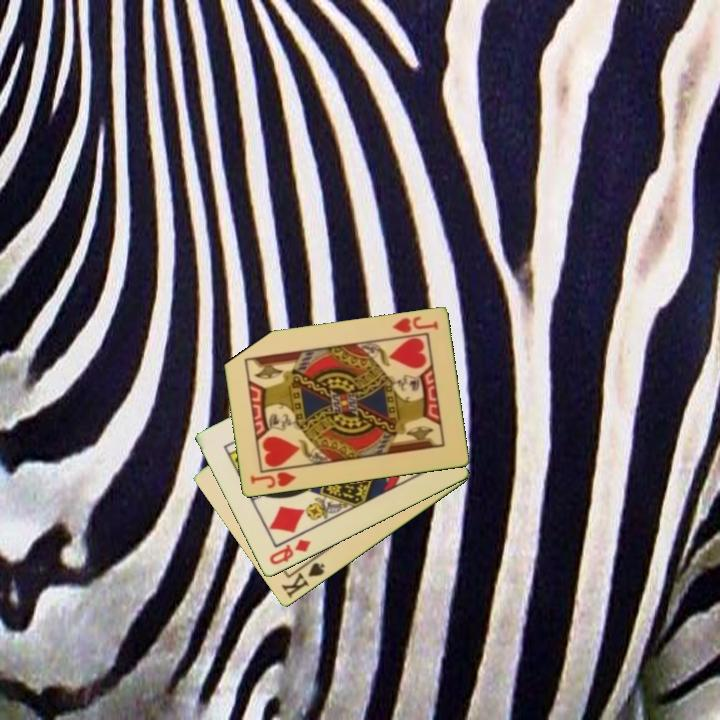Jh: (246, 468, 299, 492), (389, 313, 441, 336)
Ks: (277, 553, 327, 602)
Qd: (265, 536, 314, 568)
